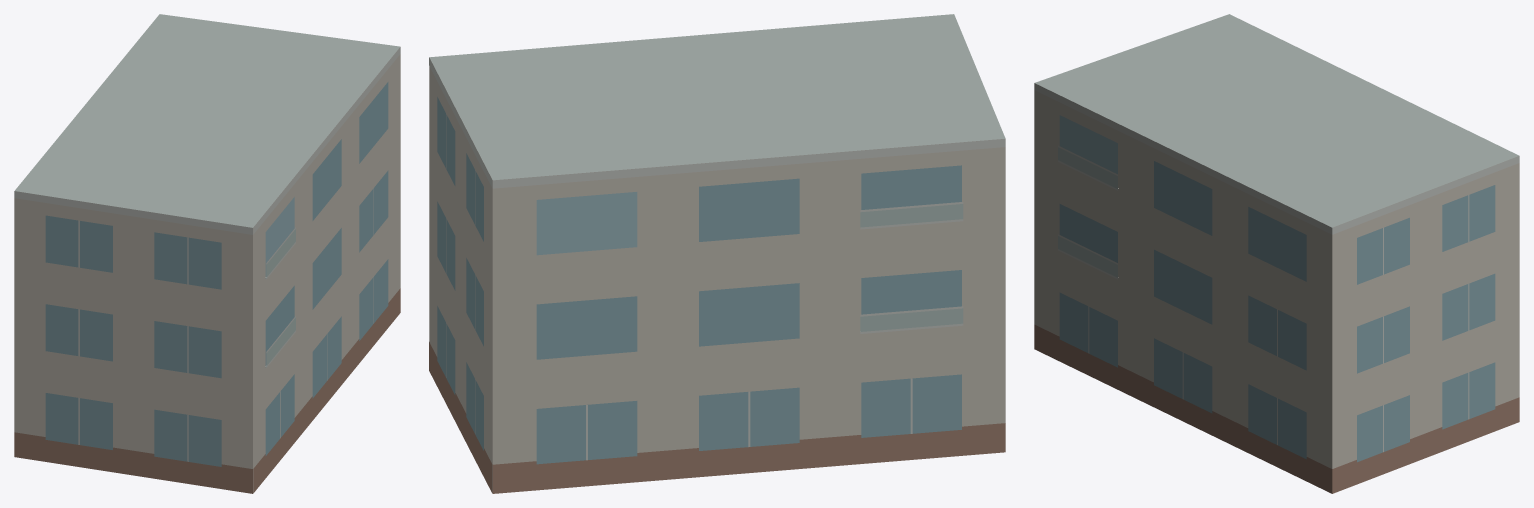
Rendered from survey-upis-32717502.glb.
3 views of the same model, side by side, from view 1: azimuth 30°, elevation 25°; view 2: azimuth 150°, elevation 25°; view 3: azimuth 270°, elevation 25° (orthographic). The views are drawn at different scales.
Visible parts, largest first — view 1: survey-upis-32717502.tmp; view 2: survey-upis-32717502.tmp; view 3: survey-upis-32717502.tmp.
Boxes of the visible parts, left/top/right/bottom form: survey-upis-32717502.tmp: left=14, top=14, right=400, bottom=493; survey-upis-32717502.tmp: left=429, top=14, right=1005, bottom=493; survey-upis-32717502.tmp: left=1034, top=14, right=1519, bottom=493.
Bounding box in the file's own units: 15.76 × 9.15 × 15.13.
